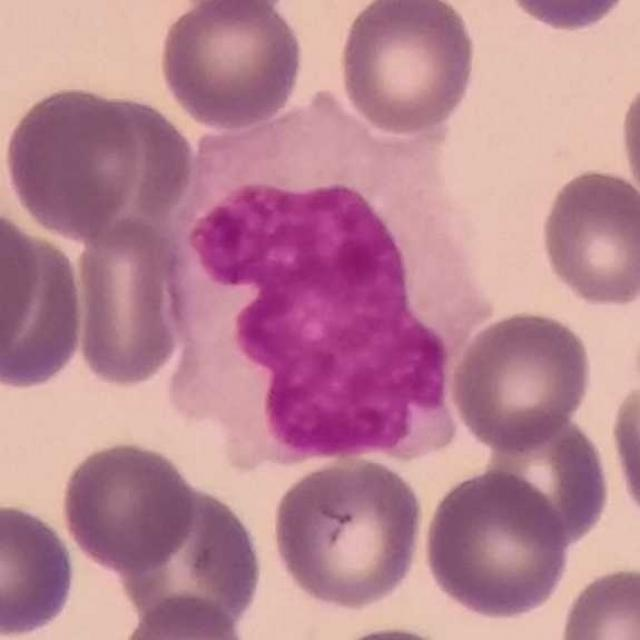mono: (153, 86, 502, 475)
